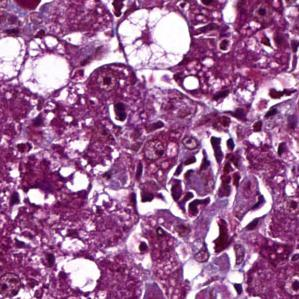ballooning: (116, 5, 192, 70)
